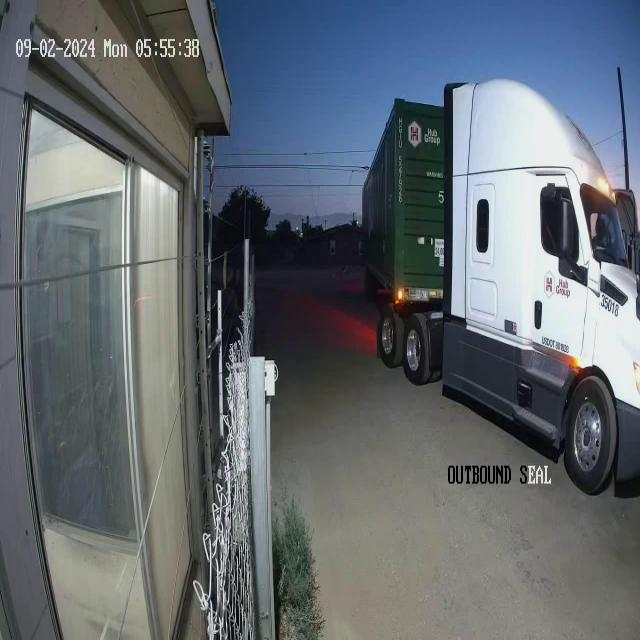CONTAINER: (361, 95, 452, 299)
